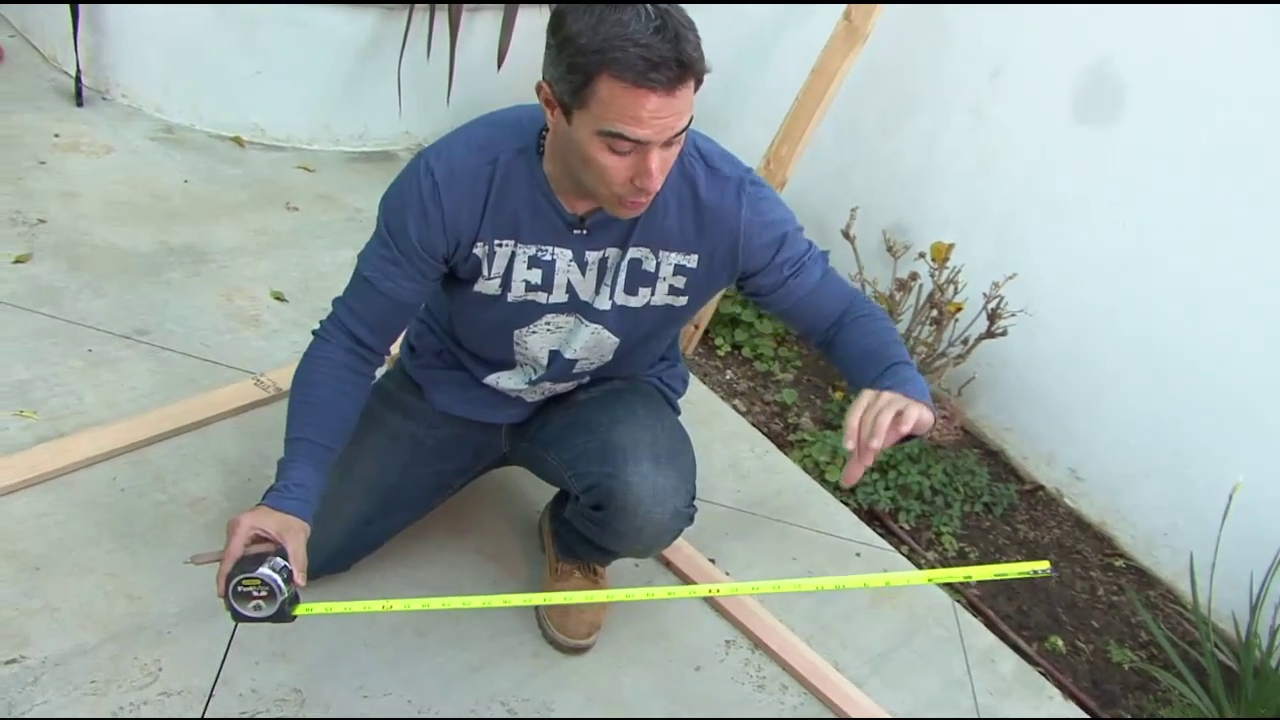person: (215, 1, 935, 655)
